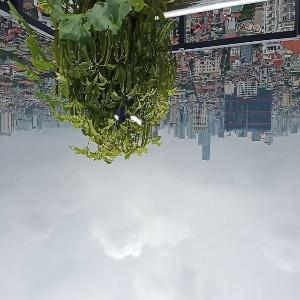drone: (105, 97, 147, 139)
